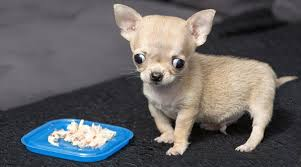Bulldog: (104, 5, 301, 156)
